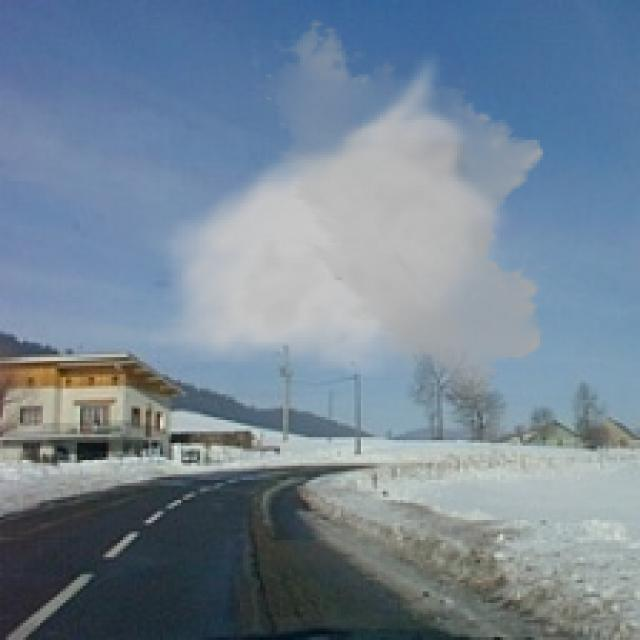smoke: (149, 17, 554, 409)
